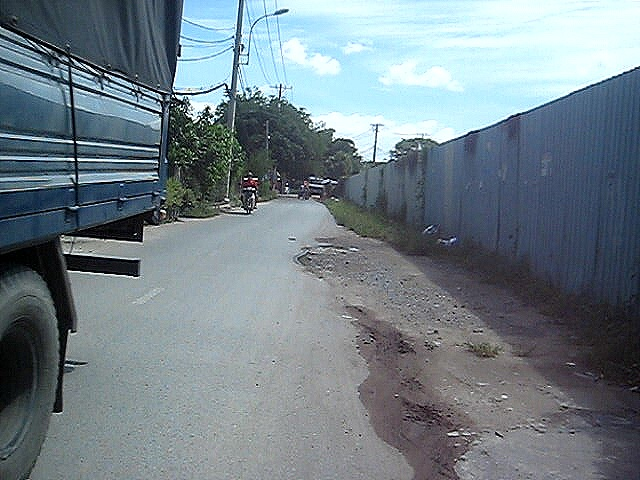hole: (296, 252, 350, 276), (299, 244, 362, 252)
